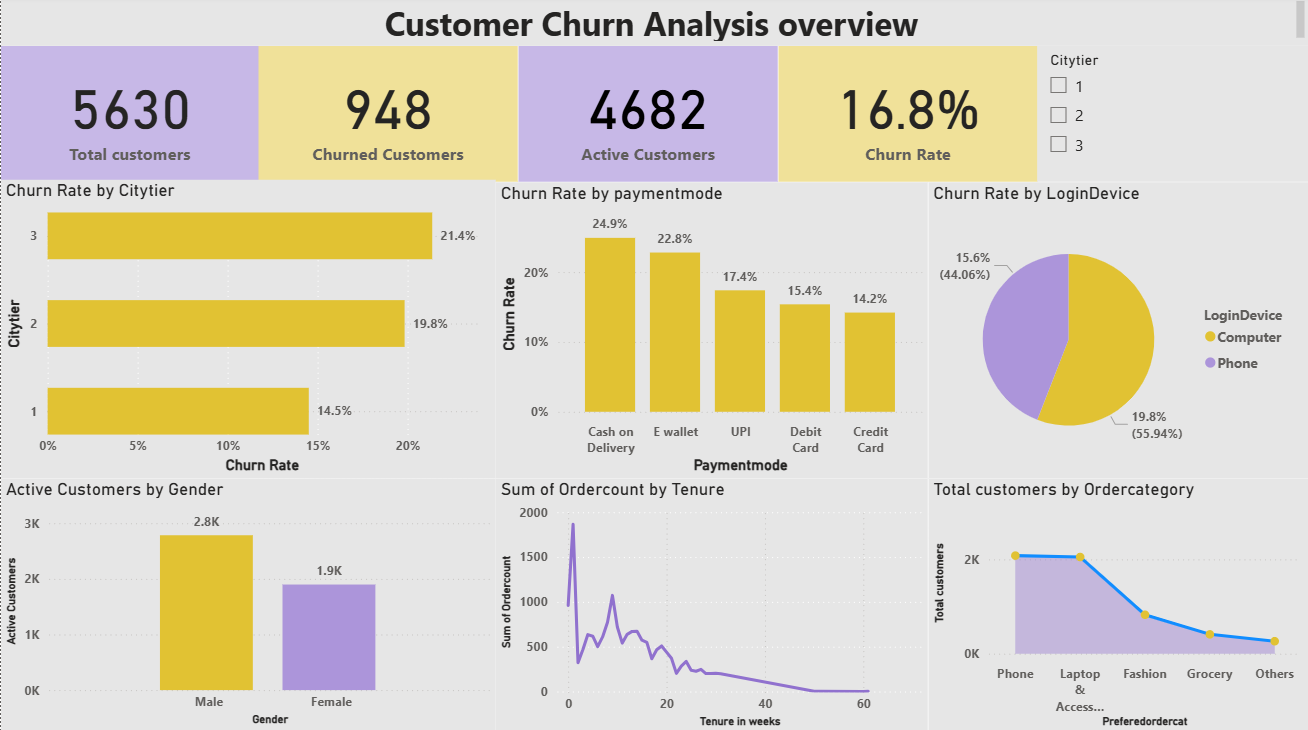

Layout of this report page (visuals, bound fields, positions):
{"tool":"powerbi","page":{"name":"Dashbaord","canvas":[1280,720],"ordinal":1},"visuals":[{"type":"card","fields":{"Values":["Customertable.Total customers"]},"box":[0,49.4,252.5,133.1],"z":0},{"type":"card","fields":{"Values":["Customertable.Churned Customers"]},"box":[252.5,49.4,253.9,133.1],"z":1000},{"type":"card","fields":{"Values":["Customertable.Active Customers"]},"box":[506.3,49.4,253.9,133.1],"z":2000},{"type":"card","fields":{"Values":["Customertable.Churn Rate"]},"box":[760.2,49.4,253.9,133.1],"z":3000},{"type":"barChart","fields":{"Category":["Customertable.Citytier"],"Y":["Customertable.Churn Rate"]},"box":[0,179.8,484.4,292.3],"z":4000},{"type":"clusteredColumnChart","title":"Churn Rate by paymentmode","fields":{"Y":["Customertable.Churn Rate"],"Category":["Customertable.Preferredpaymentmode"]},"box":[484.4,182.5,422.6,289.5],"z":5000},{"type":"pieChart","title":"Churn Rate by LoginDevice","fields":{"Category":["Customertable.PreferredLoginDevice"],"Y":["Customertable.Churn Rate"]},"box":[907,182.5,373.2,289.5],"z":6000},{"type":"clusteredColumnChart","fields":{"Category":["Customertable.Churn"]},"box":[0,482,484,238],"z":7000},{"type":"clusteredColumnChart","fields":{"Category":["Customertable.Gender"],"Y":["Customertable.Active Customers"]},"box":[0,472,484.4,247],"z":8000},{"type":"lineChart","title":"Sum of Ordercount by Tenure","fields":{"Y":["Sum(Customertable.Ordercount)"],"Category":["Customertable.Tenure"]},"box":[484.4,472,422.6,248.4],"z":9000},{"type":"stackedAreaChart","title":"Total customers by Ordercategory","fields":{"Category":["Customertable.Preferedordercat"],"Y":["Customertable.Total customers"]},"box":[907,472,373.2,248.4],"z":10000},{"type":"slicer","fields":{"Values":["Customertable.Citytier"]},"box":[1014.1,49.4,266.2,133.1],"z":11000},{"type":"textbox","box":[0,0,1280.3,48.9],"z":12000}]}

Visuals, with their boxes in screenshot pixels (x1, y1, x2, y2), scaled from the page's 1280x720 canvas onto the 1308x730 screenshot:
card - Customertable.Total customers: rect(0, 50, 258, 185)
card - Customertable.Churned Customers: rect(258, 50, 517, 185)
card - Customertable.Active Customers: rect(517, 50, 777, 185)
card - Customertable.Churn Rate: rect(777, 50, 1036, 185)
barChart - Customertable.Citytier x Customertable.Churn Rate: rect(0, 182, 495, 479)
"Churn Rate by paymentmode" clusteredColumnChart: rect(495, 185, 927, 479)
"Churn Rate by LoginDevice" pieChart: rect(927, 185, 1307, 479)
clusteredColumnChart - Customertable.Churn: rect(0, 489, 495, 729)
clusteredColumnChart - Customertable.Gender x Customertable.Active Customers: rect(0, 479, 495, 729)
"Sum of Ordercount by Tenure" lineChart: rect(495, 479, 927, 729)
"Total customers by Ordercategory" stackedAreaChart: rect(927, 479, 1307, 729)
slicer - Customertable.Citytier: rect(1036, 50, 1307, 185)
textbox: rect(0, 0, 1307, 50)
